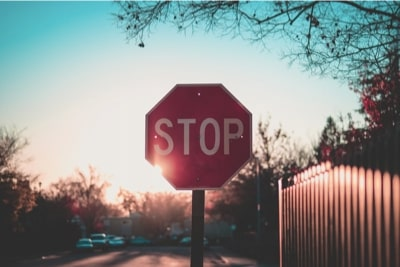StopSign: (143, 82, 254, 192)
